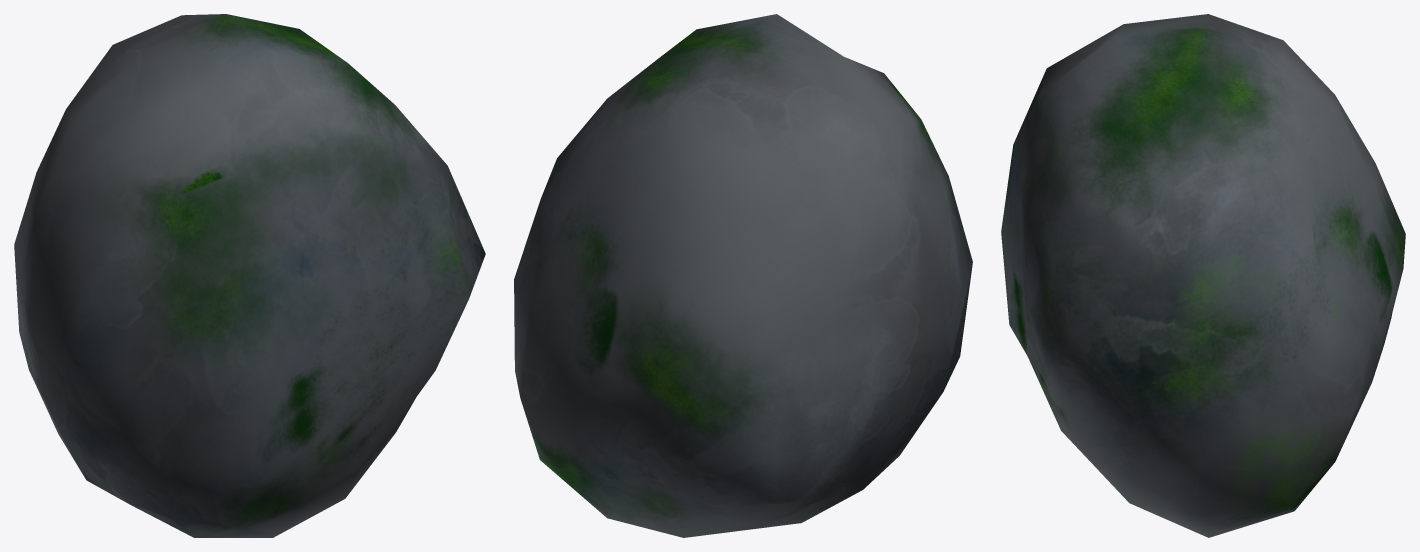
Rendered from rock2.glb.
The picture shows the model from 3 angles, left to right: view 1: azimuth 30°, elevation 25°; view 2: azimuth 150°, elevation 25°; view 3: azimuth 270°, elevation 25°; orthographic projection. The views are drawn at different scales.
Visible parts, largest first — view 1: Rock2_LP; view 2: Rock2_LP; view 3: Rock2_LP.
Boxes of the visible parts, x1,y1,x2,y2 form: Rock2_LP: (14, 14, 485, 537); Rock2_LP: (514, 14, 972, 537); Rock2_LP: (1001, 14, 1405, 537).
Bounding box in the file's own units: 1.66 × 1.96 × 1.53.
1 material, 1 textured.
